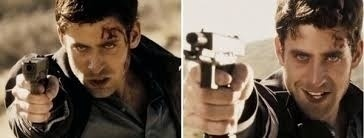pistol: (186, 30, 253, 98), (17, 55, 59, 98)
